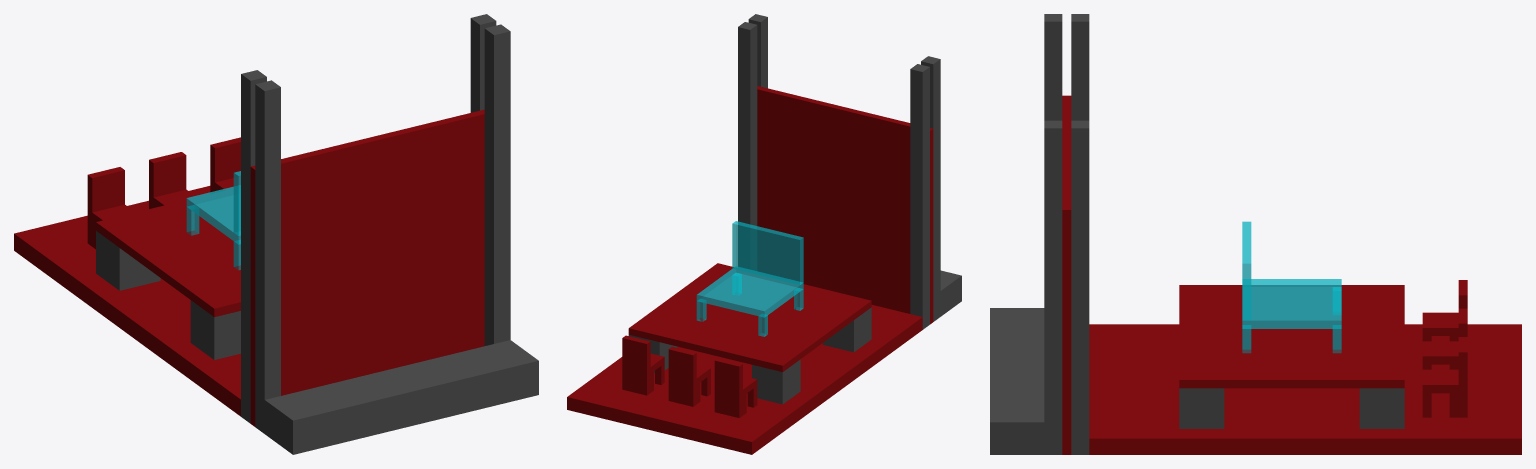
File: Wall.glb
The picture shows the model from 3 angles, left to right: view 1: azimuth 30°, elevation 25°; view 2: azimuth 150°, elevation 25°; view 3: azimuth 270°, elevation 25°; orthographic projection. The views are drawn at different scales.
Parts seen in each view (by area): view 1: Cube, Cube.017, Cube.022, Cube.007, Cube.006, Cube.016, Cube.008, Cube.015, Cube.013, Cube.009, Cube.011, Cube.012 (+12 smaller); view 2: Cube.017, Cube.022, Cube.001, Cube.002, Cube.027, Cube.028, Cube.016, Cube.009, Cube.013, Cube.014, Cube.015, Cube.010 (+15 smaller); view 3: Cube.017, Cube.022, Cube, Cube.002, Cube.007, Cube.028, Cube.001, Cube.006, Cube.019, Cube.020, Cube.016, Cube.027 (+4 smaller).
Part boxes in pixels (x1,y1,x2,y2): Cube: (264, 340, 538, 454); Cube.017: (14, 186, 240, 416); Cube.022: (96, 189, 240, 317); Cube.007: (484, 24, 510, 345); Cube.006: (255, 80, 280, 433); Cube.016: (250, 109, 484, 190); Cube.008: (250, 285, 484, 362); Cube.015: (250, 135, 484, 212); Cube.013: (250, 178, 484, 255); Cube.009: (250, 264, 484, 340); Cube.011: (250, 221, 484, 298); Cube.012: (250, 200, 484, 276); Cube.017: (567, 305, 922, 454); Cube.022: (628, 263, 871, 372); Cube.001: (910, 64, 929, 329); Cube.002: (738, 22, 757, 270); Cube.027: (732, 221, 803, 284); Cube.028: (696, 266, 803, 317); Cube.016: (757, 86, 933, 146); Cube.009: (757, 202, 933, 259); Cube.013: (757, 137, 933, 195); Cube.014: (757, 121, 933, 179); Cube.015: (757, 105, 933, 162); Cube.010: (757, 186, 933, 243); Cube.017: (1089, 324, 1521, 454); Cube.022: (1179, 285, 1404, 388); Cube: (990, 308, 1044, 454); Cube.002: (1071, 120, 1089, 454); Cube.007: (1044, 120, 1062, 454); Cube.028: (1242, 279, 1341, 328); Cube.001: (1071, 14, 1089, 120); Cube.006: (1044, 14, 1062, 120); Cube.019: (1359, 388, 1404, 428); Cube.020: (1179, 388, 1224, 428); Cube.016: (1062, 95, 1071, 230); Cube.027: (1242, 221, 1251, 320).
Bounding box in the file's own units: 6 × 8 × 11.8.
